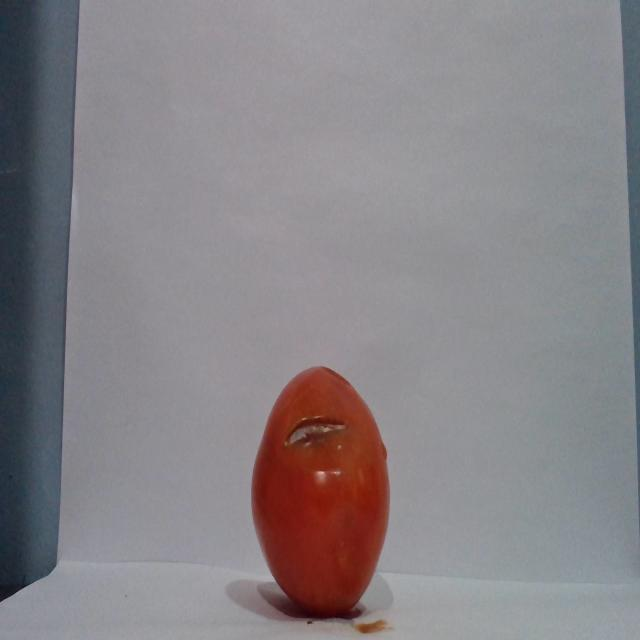Red: (249, 364, 391, 617)
